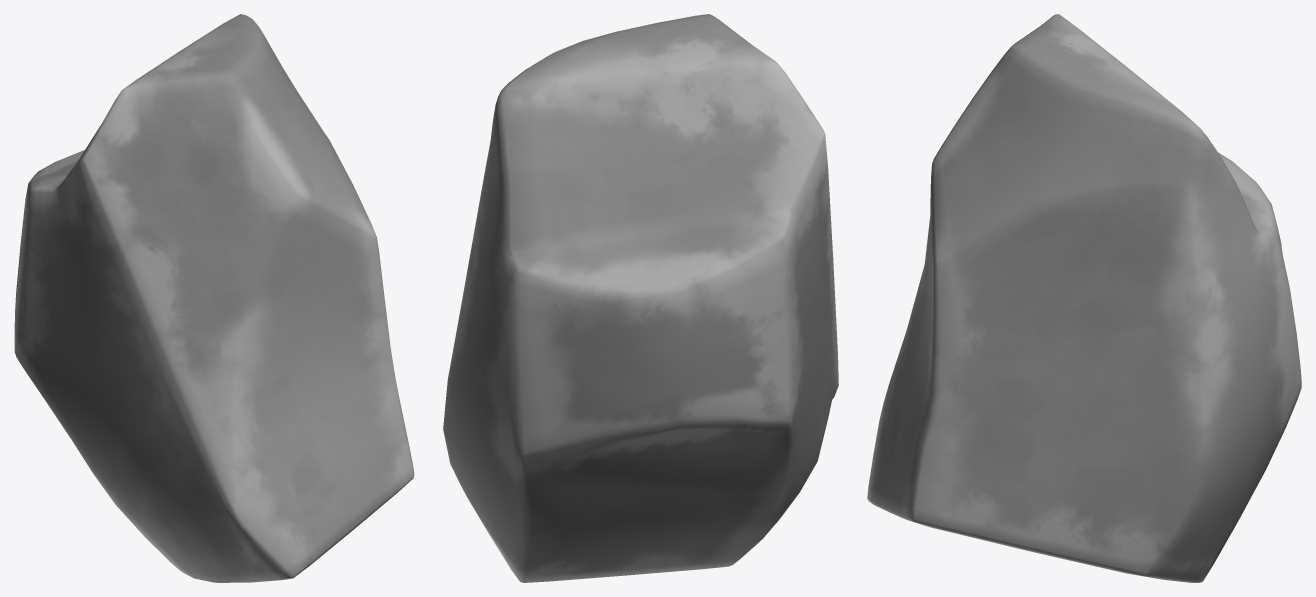
The model's file is Stone_4.FBX.
The picture shows the model from 3 angles, left to right: view 1: azimuth 30°, elevation 25°; view 2: azimuth 150°, elevation 25°; view 3: azimuth 270°, elevation 25°; orthographic projection. The views are drawn at different scales.
Visible parts, largest first — view 1: Box002; view 2: Box002; view 3: Box002.
Part boxes in pixels (left/top/right/bottom): Box002: left=14, top=14, right=414, bottom=582; Box002: left=443, top=14, right=838, bottom=582; Box002: left=867, top=14, right=1301, bottom=582.
Size of the model in its own units: 1.02 by 1.21 by 1.57.
1 material, 1 textured.
